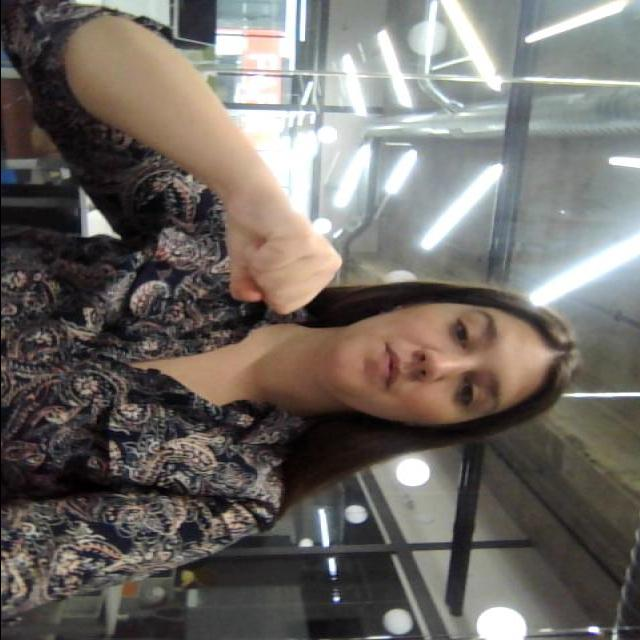Rock: (216, 189, 342, 315)
